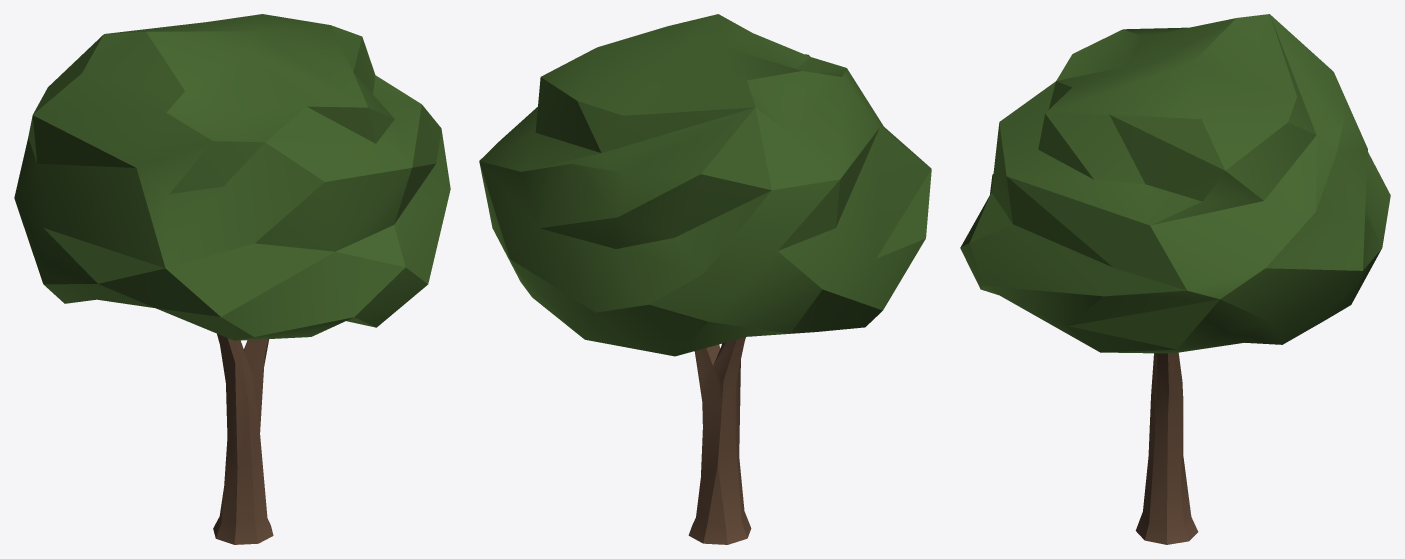
The model's file is BroadleafA.fbx.
3 views of the same model, side by side, from view 1: azimuth 30°, elevation 25°; view 2: azimuth 150°, elevation 25°; view 3: azimuth 270°, elevation 25° (orthographic).
Visible parts, largest first — view 1: BroadleafA; view 2: BroadleafA; view 3: BroadleafA.
Part boxes in pixels (x1,y1,x2,y2): BroadleafA: (14, 14, 450, 544); BroadleafA: (479, 14, 931, 544); BroadleafA: (960, 14, 1390, 544).
Size of the model in its own units: 847 by 1018 by 821.
